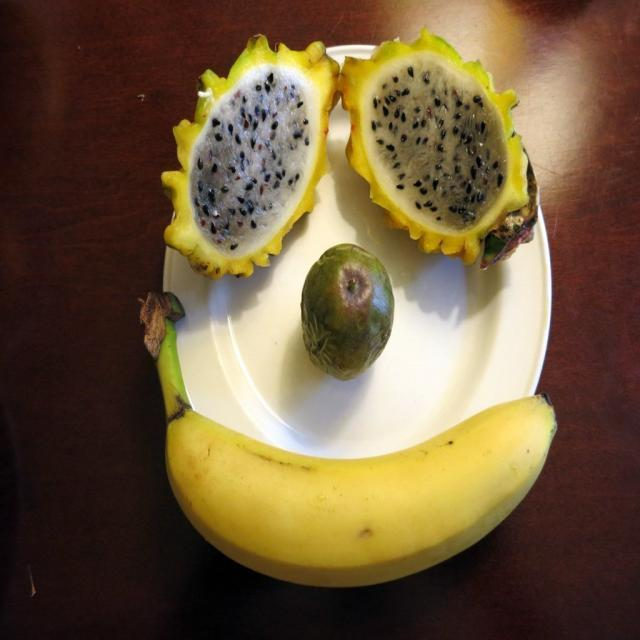Banana: (139, 292, 562, 586)
